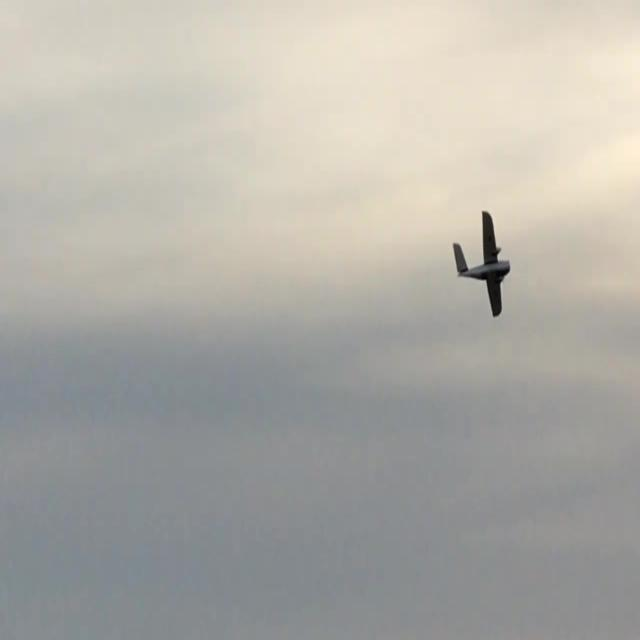iha: (452, 237, 510, 280)
